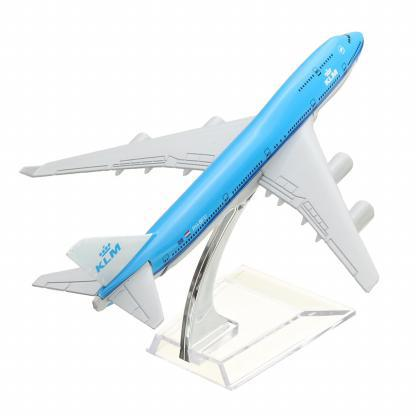CIV_Plane: (15, 28, 384, 328)
